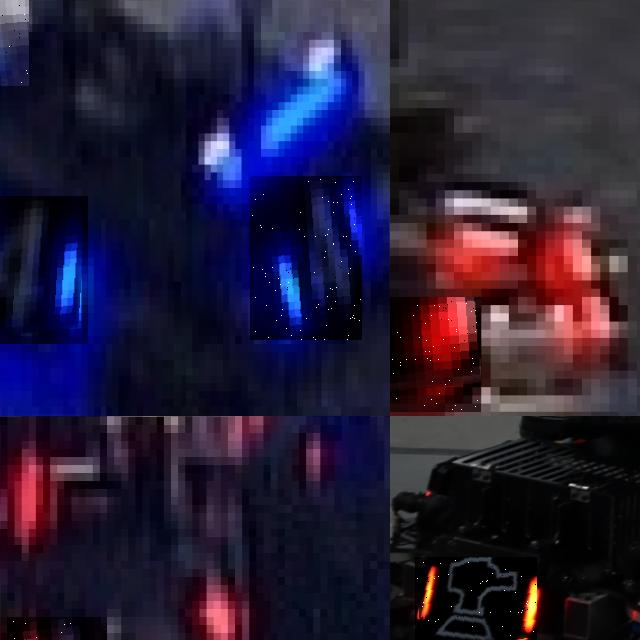B4: (250, 177, 362, 340), (0, 195, 87, 344)
R1: (390, 297, 481, 412)
Rs: (415, 557, 536, 640)
